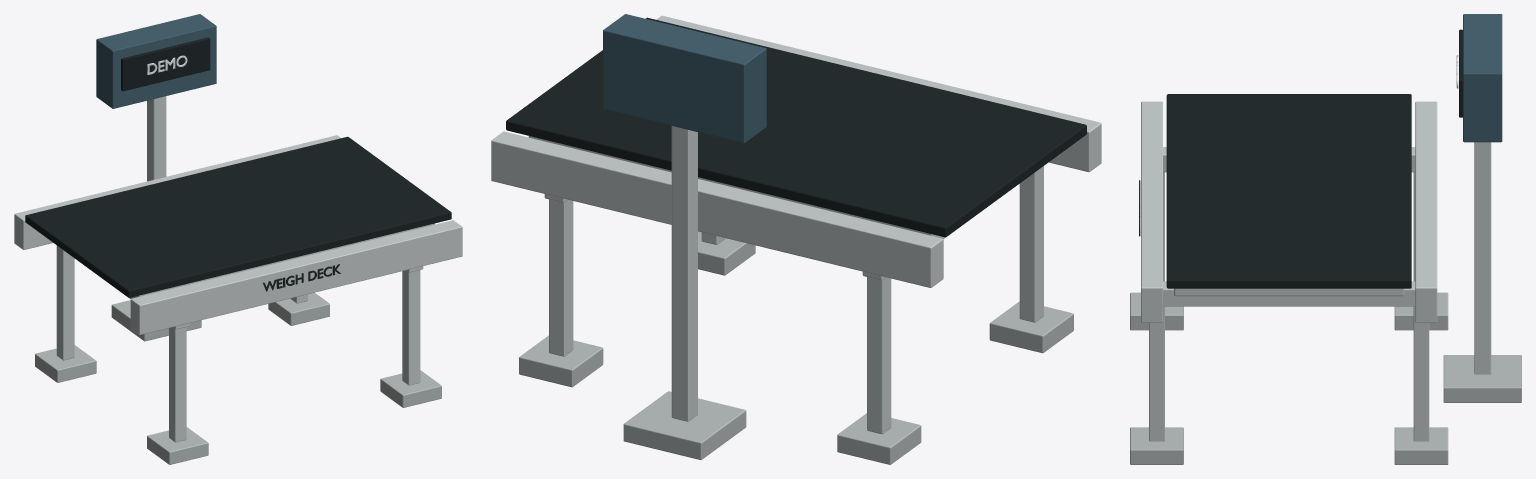
File: checkweigher.glb
3 views of the same model, side by side, from view 1: azimuth 30°, elevation 25°; view 2: azimuth 150°, elevation 25°; view 3: azimuth 270°, elevation 25° (orthographic). The views are drawn at different scales.
Parts seen in each view (by area): view 1: WEIGH_DECK_surface, WEIGH_FRAME_side_-0.56, WEIGH_readout_housing, WEIGH_readout_screen, WEIGH_FRAME_side_0.56, WEIGH_LEG_0.65_-0.54, WEIGH_LEG_-0.65_0.54, WEIGH_LEG_-0.65_-0.54, WEIGH_readout_mast, WEIGH_FOOT_-0.65_0.54, WEIGH_FOOT_-0.65_-0.54, WEIGH_FOOT_0.65_-0.54 (+4 smaller); view 2: WEIGH_DECK_surface, WEIGH_FRAME_side_0.56, WEIGH_readout_housing, WEIGH_readout_mast, WEIGH_readout_foot, WEIGH_FRAME_side_-0.56, WEIGH_LEG_0.65_0.54, WEIGH_LEG_-0.65_0.54, WEIGH_LEG_-0.65_-0.54, WEIGH_FOOT_-0.65_-0.54, WEIGH_FOOT_0.65_0.54, WEIGH_FOOT_-0.65_0.54 (+2 smaller); view 3: WEIGH_DECK_surface, WEIGH_readout_housing, WEIGH_FRAME_side_0.56, WEIGH_FRAME_side_-0.56, WEIGH_readout_mast, WEIGH_readout_foot, WEIGH_FRAME_cross_0.65, WEIGH_DECK_pan, WEIGH_LEG_0.65_0.54, WEIGH_LEG_0.65_-0.54, WEIGH_FOOT_0.65_0.54, WEIGH_FOOT_0.65_-0.54 (+2 smaller).
Boxes of the visible parts, x1,y1,x2,y2 form: WEIGH_DECK_surface: [25, 136, 451, 297]; WEIGH_FRAME_side_-0.56: [130, 220, 462, 334]; WEIGH_readout_housing: [96, 14, 216, 108]; WEIGH_readout_screen: [121, 37, 210, 91]; WEIGH_FRAME_side_0.56: [14, 135, 340, 249]; WEIGH_LEG_0.65_-0.54: [402, 270, 420, 385]; WEIGH_LEG_-0.65_0.54: [56, 245, 74, 360]; WEIGH_LEG_-0.65_-0.54: [169, 327, 186, 442]; WEIGH_readout_mast: [147, 96, 166, 181]; WEIGH_FOOT_-0.65_0.54: [35, 345, 96, 382]; WEIGH_FOOT_-0.65_-0.54: [147, 427, 208, 464]; WEIGH_FOOT_0.65_-0.54: [380, 370, 441, 407]; WEIGH_DECK_surface: [506, 17, 1086, 237]; WEIGH_FRAME_side_0.56: [491, 131, 943, 287]; WEIGH_readout_housing: [603, 14, 766, 143]; WEIGH_readout_mast: [671, 126, 697, 421]; WEIGH_readout_foot: [623, 391, 746, 459]; WEIGH_FRAME_side_-0.56: [656, 15, 1101, 172]; WEIGH_LEG_0.65_0.54: [549, 199, 573, 356]; WEIGH_LEG_-0.65_0.54: [867, 277, 891, 434]; WEIGH_LEG_-0.65_-0.54: [1019, 166, 1043, 322]; WEIGH_FOOT_-0.65_-0.54: [989, 301, 1073, 353]; WEIGH_FOOT_0.65_0.54: [519, 335, 603, 387]; WEIGH_FOOT_-0.65_0.54: [837, 413, 921, 464]; WEIGH_DECK_surface: [1166, 94, 1411, 288]; WEIGH_readout_housing: [1463, 14, 1502, 142]; WEIGH_FRAME_side_0.56: [1415, 101, 1437, 322]; WEIGH_FRAME_side_-0.56: [1141, 101, 1162, 322]; WEIGH_readout_mast: [1474, 142, 1491, 374]; WEIGH_readout_foot: [1443, 355, 1521, 402]; WEIGH_FRAME_cross_0.65: [1163, 281, 1415, 306]; WEIGH_DECK_pan: [1174, 288, 1404, 296]; WEIGH_LEG_0.65_0.54: [1413, 306, 1429, 441]; WEIGH_LEG_0.65_-0.54: [1149, 306, 1164, 441]; WEIGH_FOOT_0.65_0.54: [1394, 427, 1448, 464]; WEIGH_FOOT_0.65_-0.54: [1130, 427, 1183, 464].
Size of the model in its own units: 1.8 by 1.54 by 1.6.
